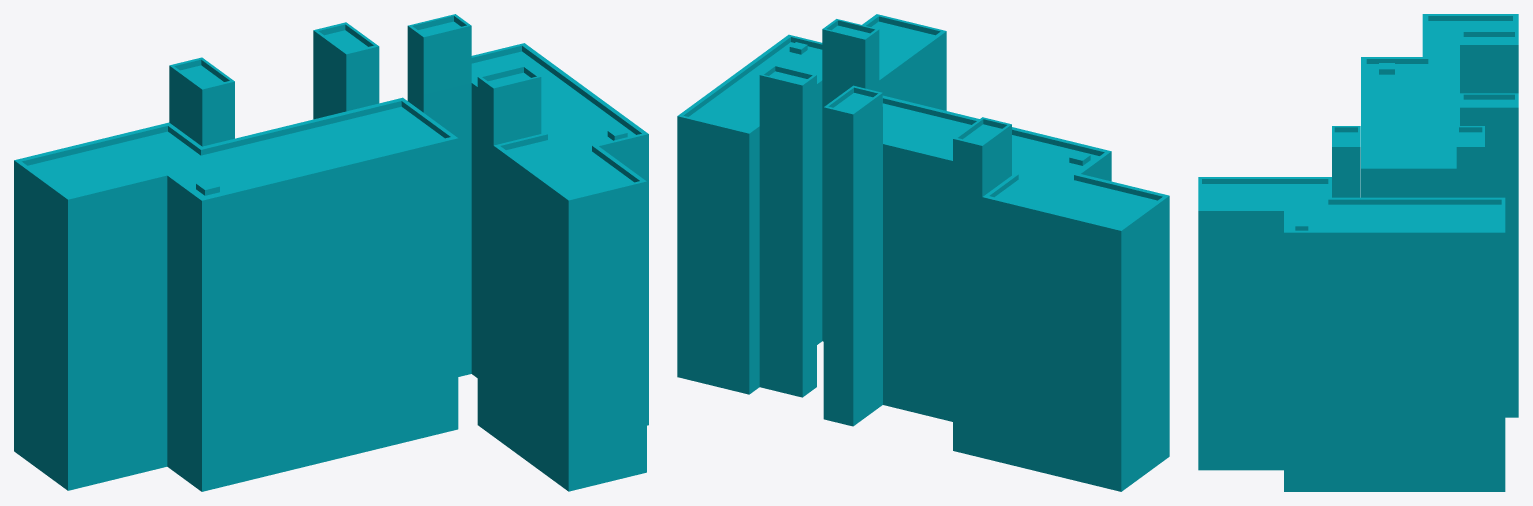
File: student10.FBX
The picture shows the model from 3 angles, left to right: view 1: azimuth 30°, elevation 25°; view 2: azimuth 150°, elevation 25°; view 3: azimuth 270°, elevation 25°; orthographic projection. The views are drawn at different scales.
Visible parts, largest first — view 1: 学生公寓10; view 2: 学生公寓10; view 3: 学生公寓10.
Boxes of the visible parts, x1,y1,x2,y2 form: 学生公寓10: (14, 14, 648, 491); 学生公寓10: (677, 14, 1169, 491); 学生公寓10: (1198, 14, 1518, 491).
Bounding box in the file's own units: 24.78 × 16.39 × 15.35.
